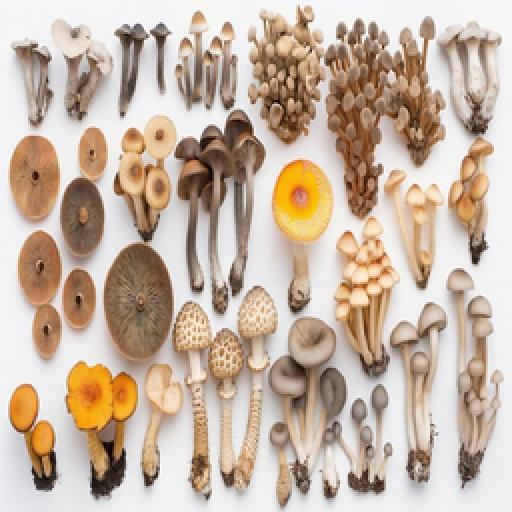mushrooms: (173, 111, 262, 311), (270, 312, 348, 504), (324, 9, 394, 210), (444, 270, 502, 487), (248, 1, 325, 150), (335, 212, 398, 381), (392, 297, 448, 482), (272, 160, 334, 314), (66, 364, 138, 496), (168, 300, 216, 496), (110, 114, 181, 242), (232, 284, 277, 482), (395, 5, 449, 169), (382, 169, 444, 289), (174, 2, 242, 109), (4, 378, 64, 492), (440, 19, 500, 132), (447, 135, 499, 263), (332, 386, 393, 495), (55, 21, 114, 123), (206, 325, 242, 485), (142, 360, 178, 486), (7, 35, 56, 126), (112, 15, 150, 116), (270, 418, 296, 511), (320, 422, 342, 500), (152, 16, 171, 97)
